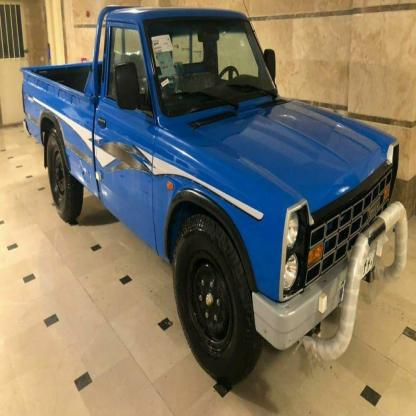Car: (0, 3, 406, 376)
